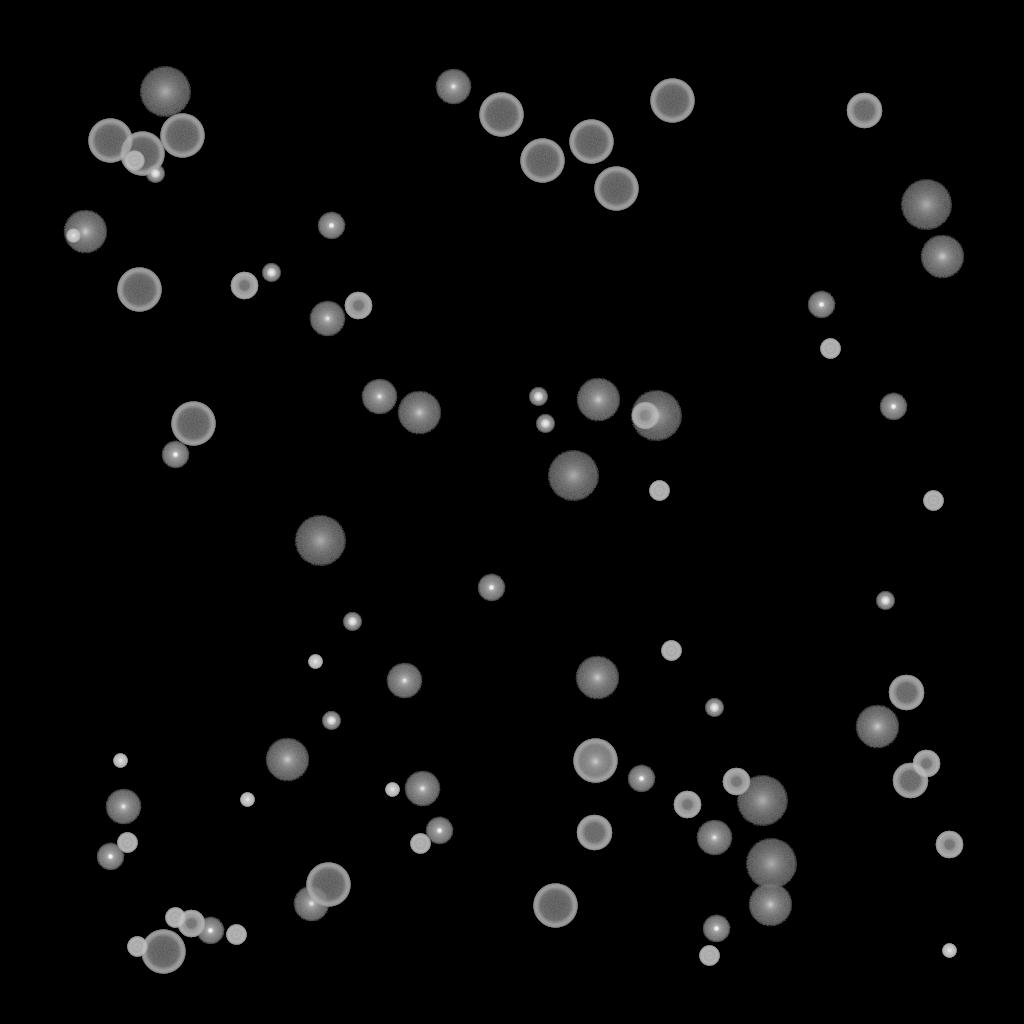depth:-10: (807, 291, 835, 319), (161, 441, 189, 469), (317, 212, 345, 240), (196, 917, 224, 945), (477, 574, 505, 602), (627, 765, 655, 793), (702, 915, 730, 943), (425, 817, 453, 845), (879, 393, 907, 421), (96, 843, 124, 871)
depth:-20: (536, 415, 554, 433), (322, 712, 340, 730), (529, 388, 547, 406), (343, 613, 361, 631), (705, 699, 723, 717), (146, 165, 164, 183), (262, 264, 280, 282), (876, 592, 894, 610)
depth:-30: (113, 754, 127, 768), (66, 229, 80, 243), (308, 655, 322, 669), (240, 793, 254, 807), (385, 783, 399, 797), (942, 944, 956, 958)
depth:-40: (165, 908, 185, 928), (410, 834, 430, 854), (649, 481, 669, 501), (820, 339, 840, 359), (127, 937, 147, 957), (661, 641, 681, 661), (923, 491, 943, 511), (226, 925, 246, 945), (117, 833, 137, 853), (699, 946, 719, 966), (124, 151, 144, 171)
depth:-50: (673, 791, 701, 819), (230, 272, 258, 300), (631, 402, 659, 430), (935, 831, 963, 859), (177, 910, 205, 938), (722, 768, 750, 796), (344, 292, 372, 320), (912, 750, 940, 778)
depth:-60: (888, 675, 924, 711), (576, 815, 612, 851), (846, 93, 882, 129), (892, 763, 928, 799)
depth:-70: (594, 167, 638, 211), (171, 402, 215, 446), (141, 930, 185, 974), (573, 739, 617, 783), (306, 863, 350, 907), (117, 268, 161, 312), (520, 139, 564, 183), (479, 93, 523, 137), (88, 119, 132, 163), (160, 114, 204, 158), (120, 132, 164, 176), (569, 120, 613, 164), (650, 79, 694, 123), (533, 884, 577, 928)
depth:0: (105, 789, 141, 825), (386, 663, 422, 699), (361, 379, 397, 415), (404, 771, 440, 807), (696, 820, 732, 856), (435, 69, 471, 105), (309, 301, 345, 337), (293, 886, 329, 922)
depth:10: (265, 738, 309, 782), (855, 705, 899, 749), (573, 740, 617, 784), (397, 391, 441, 435), (748, 883, 792, 927), (920, 235, 964, 279), (63, 210, 107, 254), (576, 378, 620, 422), (575, 656, 619, 700)
depth:20: (630, 391, 682, 441), (736, 776, 788, 826), (745, 839, 797, 889), (294, 516, 346, 566), (900, 180, 952, 230), (139, 67, 191, 117), (547, 451, 599, 501)
